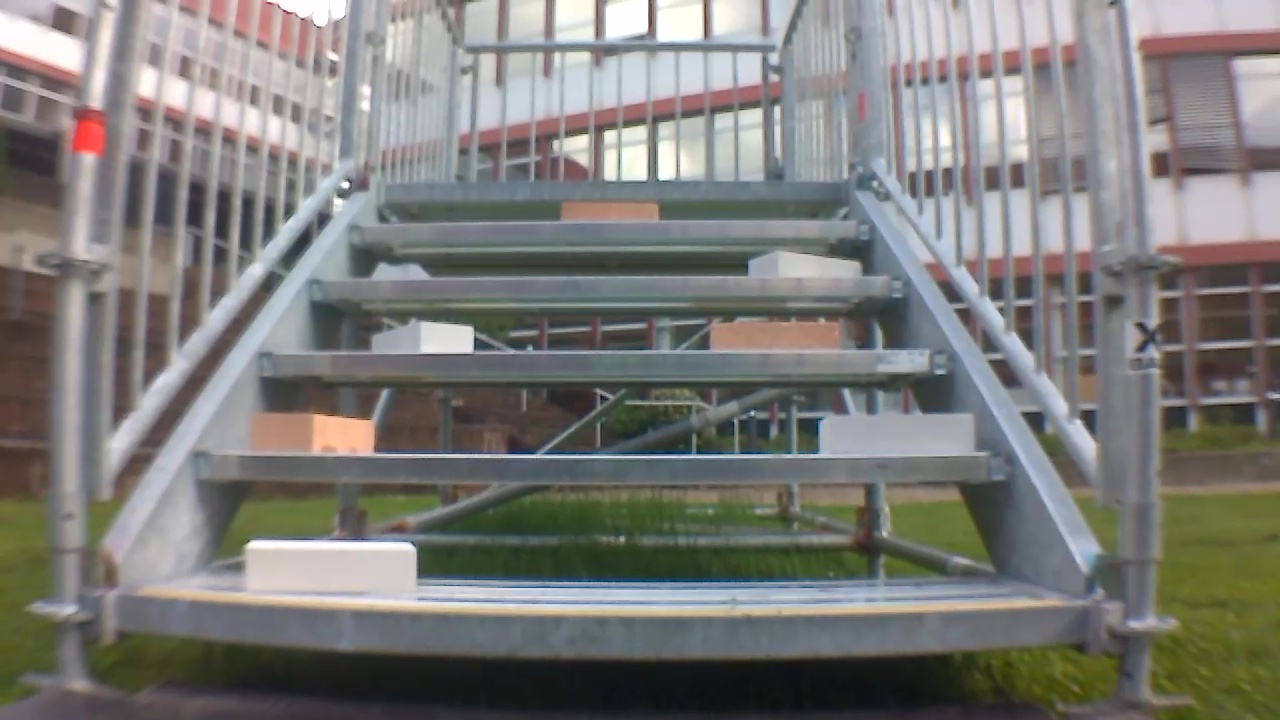brick: (241, 537, 421, 593), (815, 411, 976, 457), (242, 412, 381, 453), (707, 319, 841, 354), (369, 320, 478, 355), (745, 254, 862, 277), (559, 199, 660, 224)
edge: (117, 604, 1094, 645), (252, 349, 953, 387), (196, 454, 1012, 483), (304, 273, 916, 304), (347, 220, 882, 251), (378, 182, 850, 208)
stairs: (32, 0, 1161, 699)
steps: (101, 177, 1106, 652)
